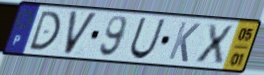9: (98, 15, 129, 59)
D: (27, 10, 63, 52)
K: (166, 20, 202, 64)
U: (128, 16, 167, 61)
V: (63, 9, 100, 57)
X: (193, 22, 235, 65)
